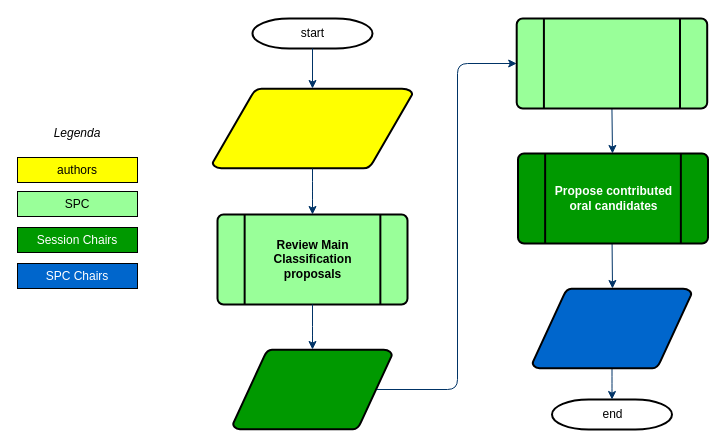
The diagram is 726 pixels wide and 447 high, and some of its shapes have lost their labels. Here are the shapes that lost their labels. From the top down, the box of each, then its label:
(515, 17, 708, 109): Prioritise proposals
(211, 87, 413, 169): Submission of abstracts (Contributed Orals)
(531, 287, 692, 369): Final acceptance
(232, 348, 392, 430): Finalise Main Classification assignments
